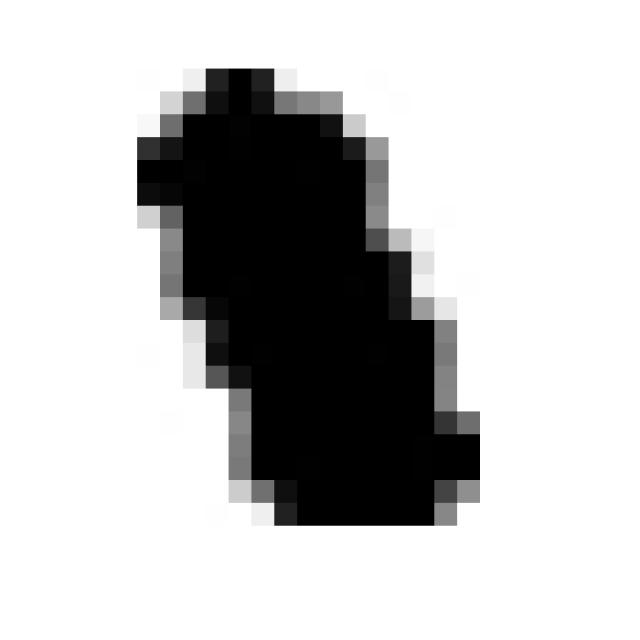0 -zero-: (116, 46, 496, 547)
